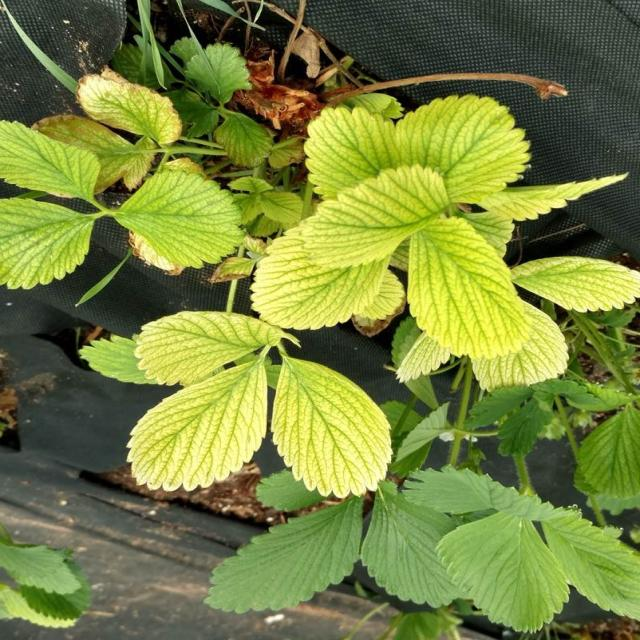Chlorosis: (26, 86, 632, 550)
